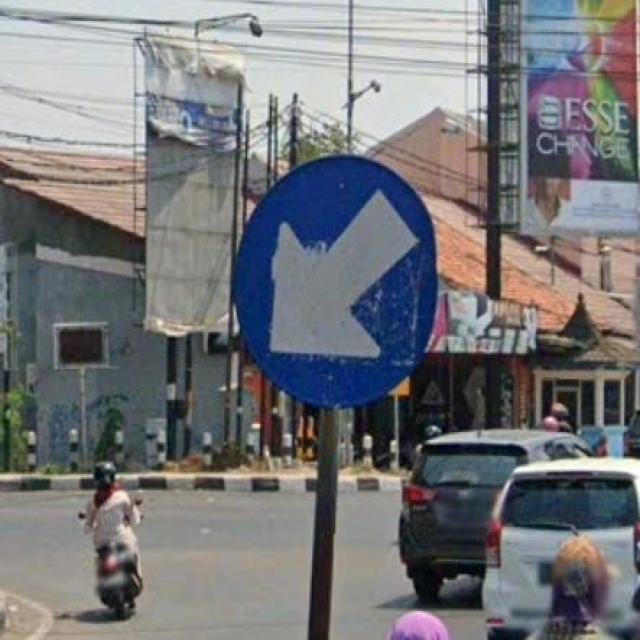traffic sign: (237, 159, 433, 408)
